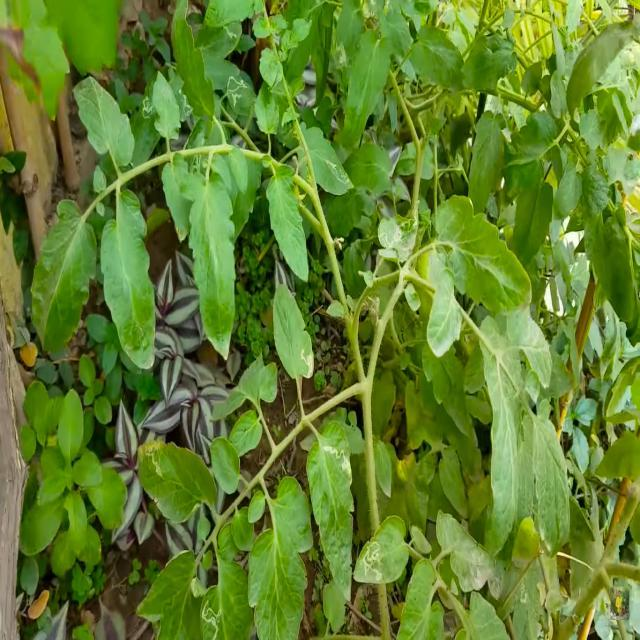Tomato healthy leaf: (434, 194, 532, 315), (31, 198, 98, 361), (248, 475, 314, 640), (180, 171, 237, 361), (100, 188, 156, 370), (479, 315, 519, 556), (341, 30, 394, 148), (171, 0, 215, 138), (72, 72, 134, 168), (266, 163, 310, 282), (512, 159, 554, 266), (466, 111, 506, 216), (507, 304, 552, 388), (410, 24, 464, 90), (341, 140, 393, 194), (551, 152, 583, 223), (152, 70, 182, 142), (208, 436, 242, 496), (229, 409, 263, 456), (228, 144, 249, 196)
Tomato target spot leaf: (307, 418, 355, 602), (136, 438, 217, 524), (435, 507, 497, 593), (421, 342, 471, 440), (199, 556, 254, 640), (297, 120, 355, 198), (272, 282, 314, 380), (353, 514, 409, 585), (129, 95, 161, 166), (332, 0, 364, 69), (378, 213, 416, 261), (222, 72, 256, 118), (176, 79, 193, 122)
